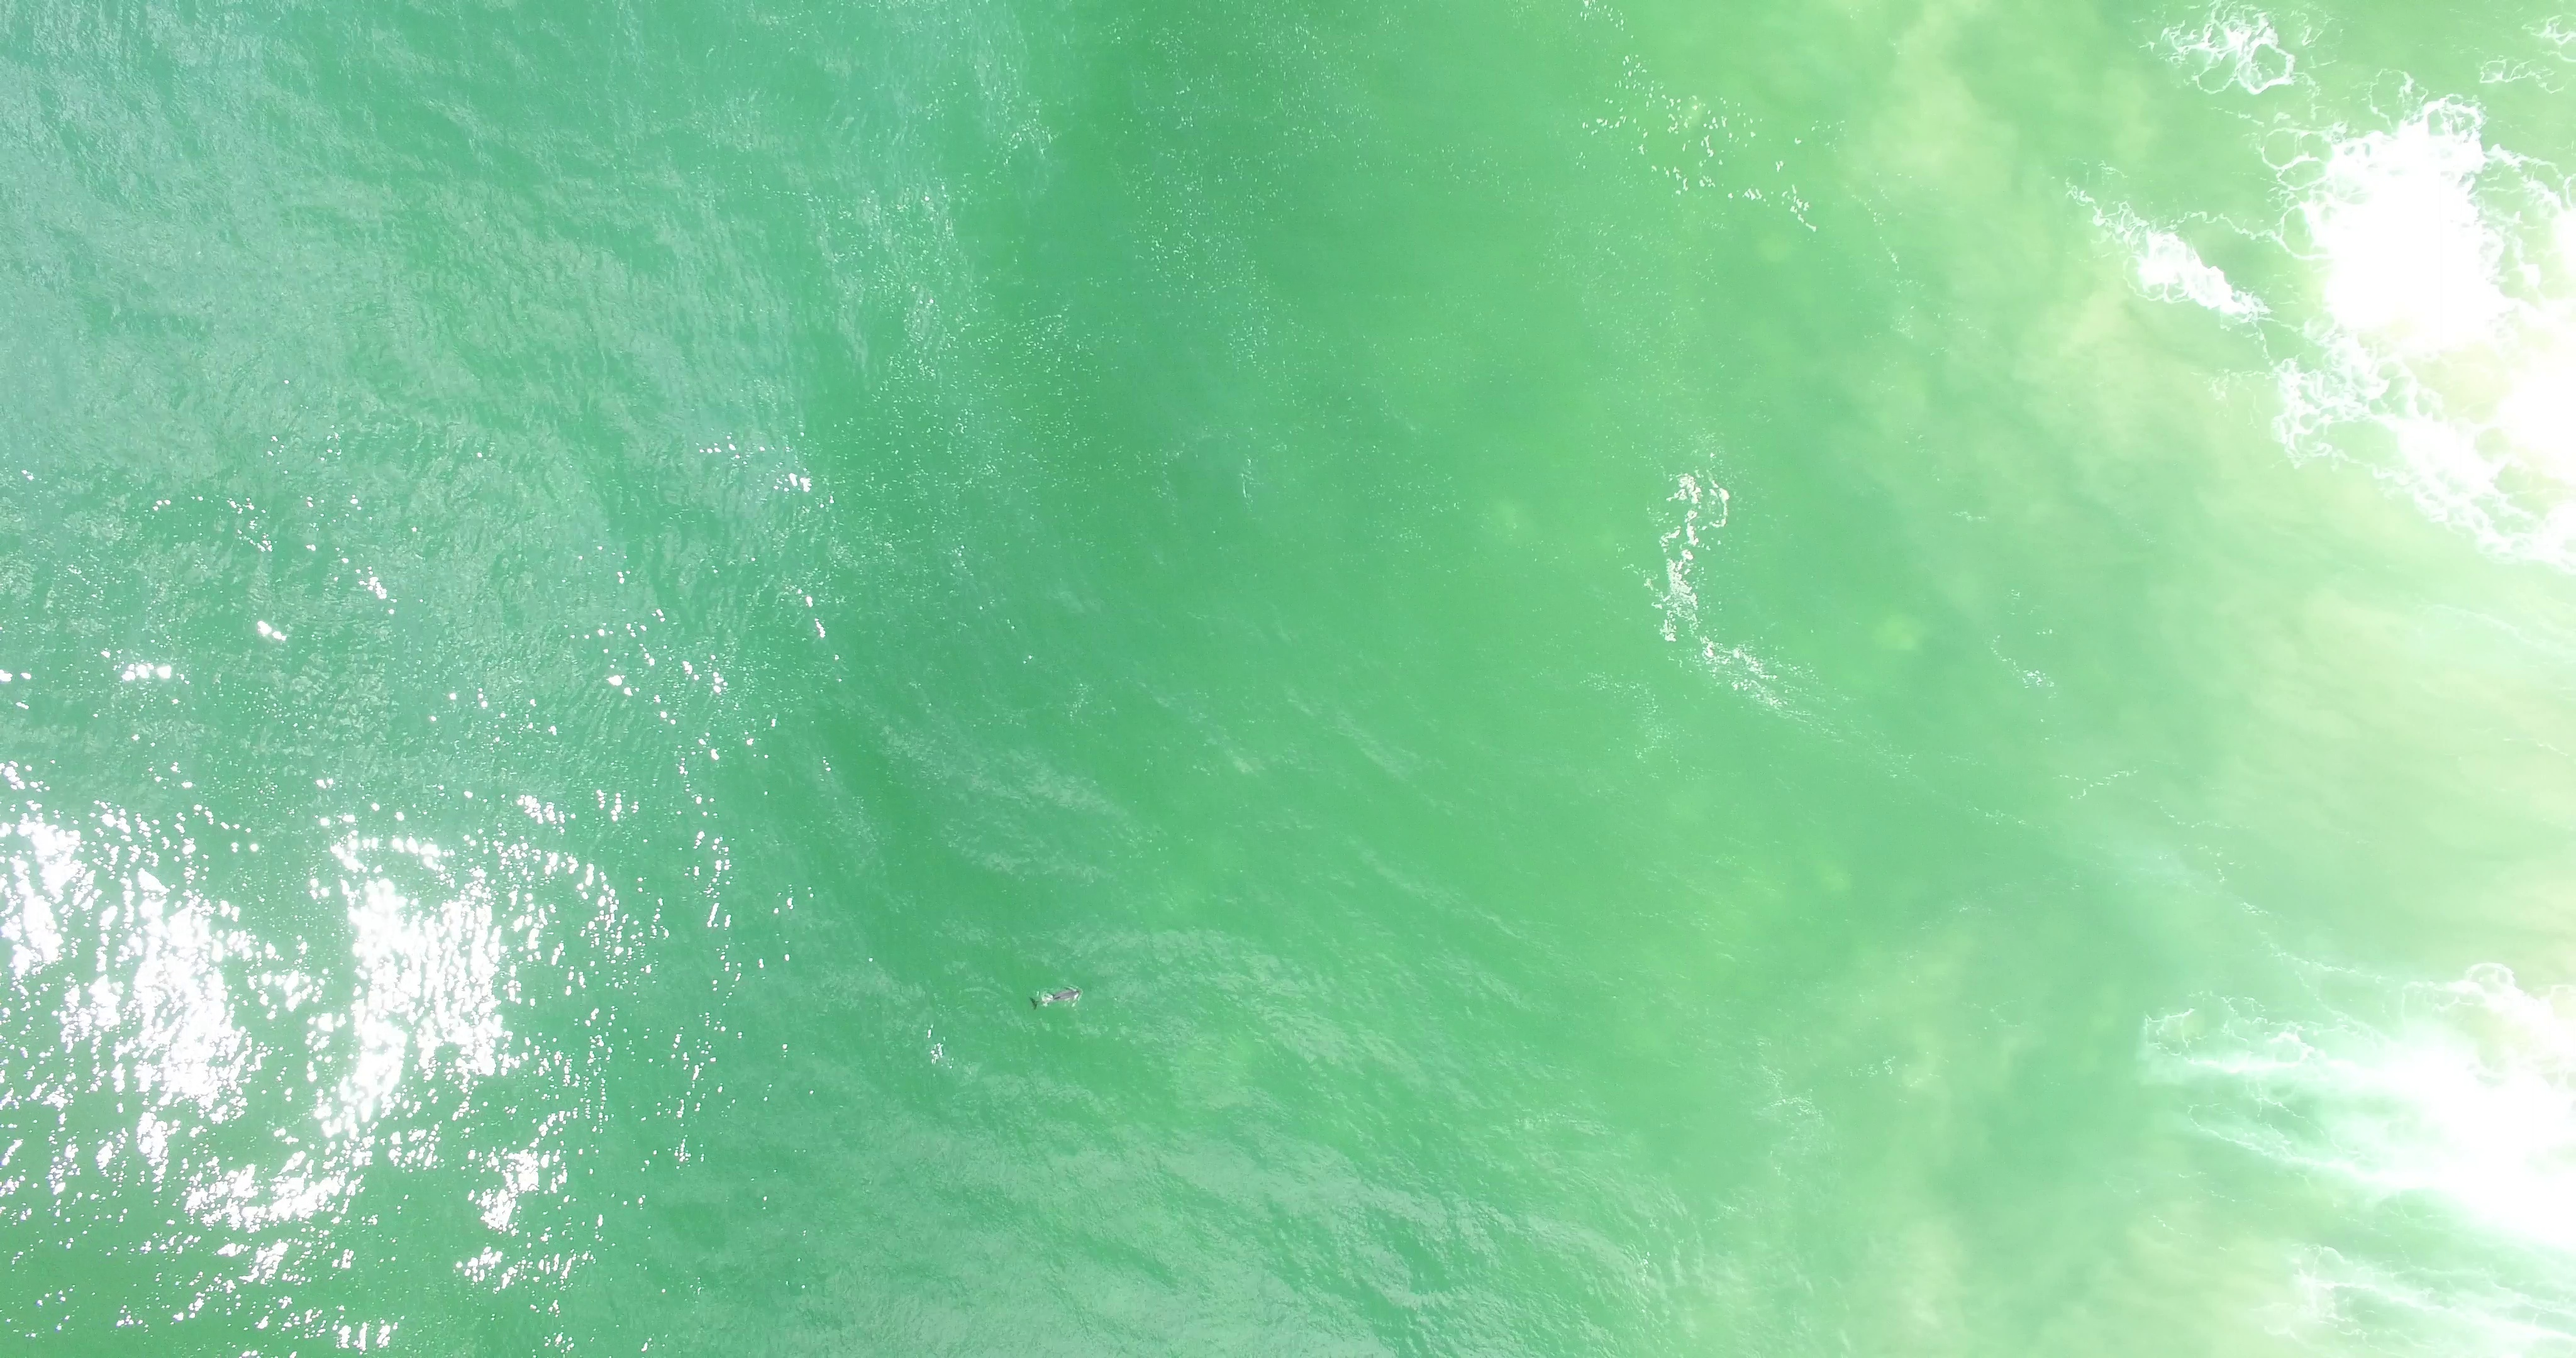dolphin: (1029, 985, 1082, 1009)
